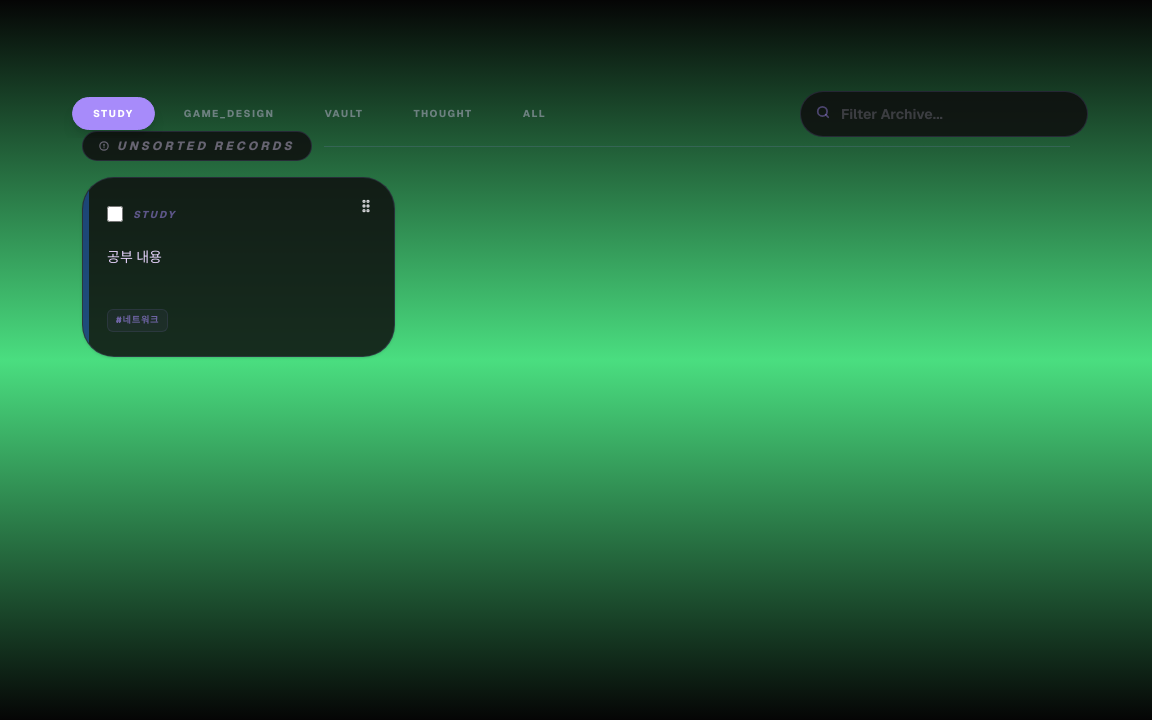
Scenario: MemoList Component › 카테고리 필터가 작동해야 함
Expected: the text "공부 내용" is shown, [107, 248, 162, 266]
// 'THOUGHT' 필터 클릭
Click the button "THOUGHT". click: (443, 114)
box: [392, 97, 494, 130]
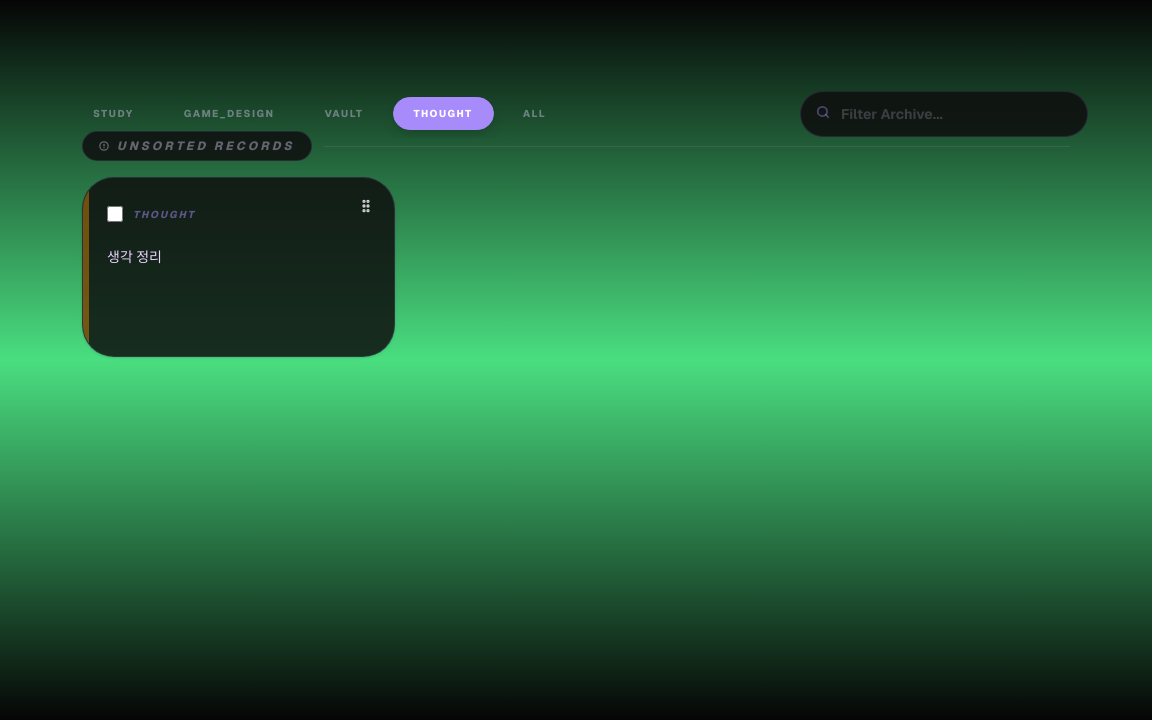
Now the button "공부 내용" is gone
Now the text "생각 정리" is shown, box [107, 248, 162, 266]
